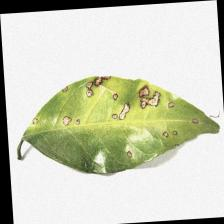canker: (30, 75, 202, 145)
